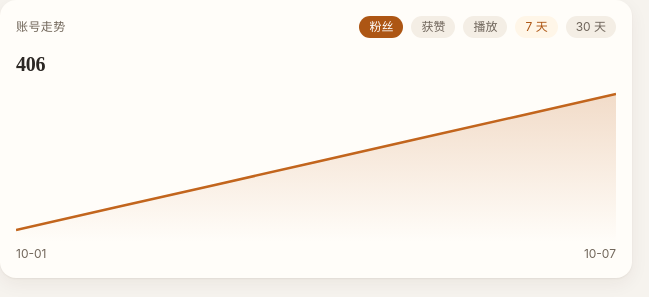
overview widgets › draws a line once there are 7 days and switches series
Click the button "播放" at (486, 27), box left=464, top=16, right=508, bottom=38
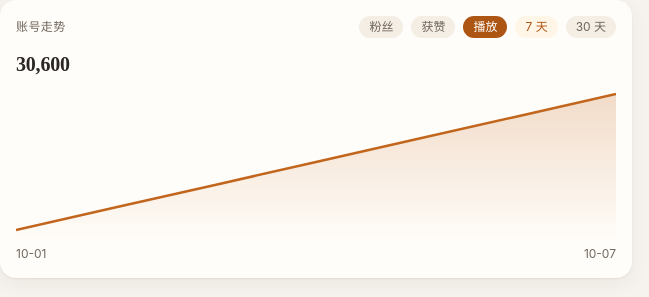
Expected: the text "30,600" is shown, left=16, top=53, right=70, bottom=75
